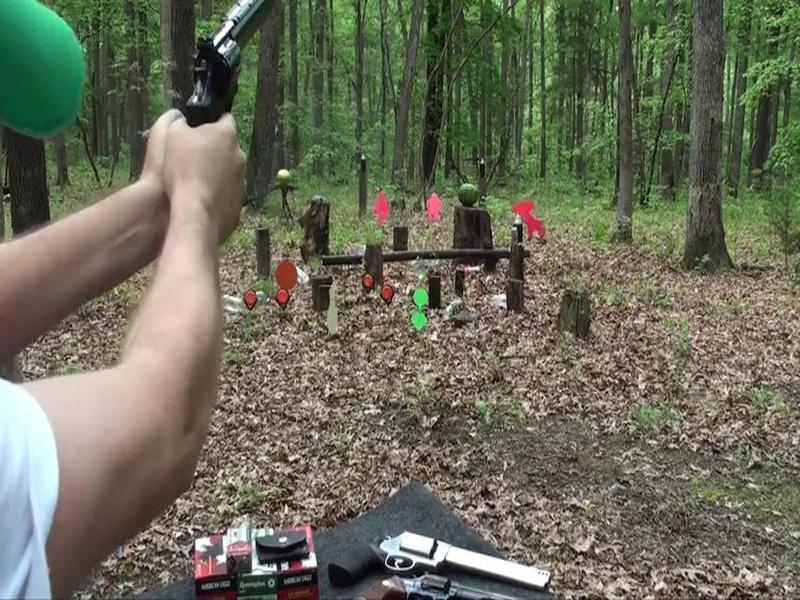Revolver: (163, 1, 302, 190)
